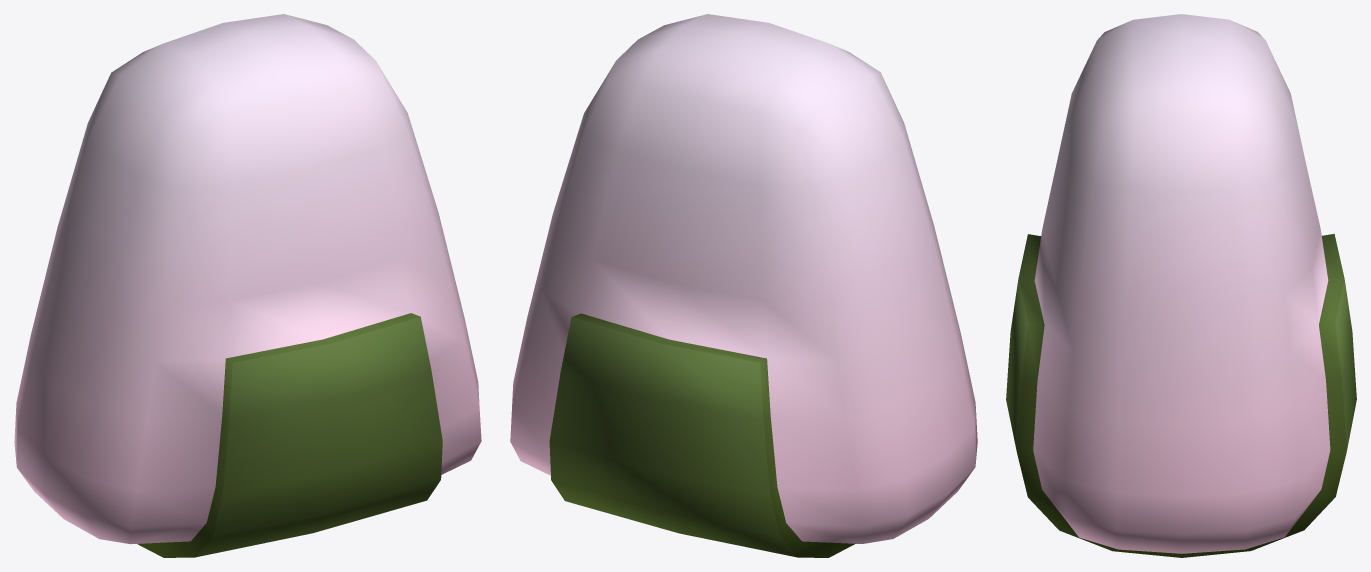
File: lpb_food_riceball.fbx
The picture shows the model from 3 angles, left to right: view 1: azimuth 30°, elevation 25°; view 2: azimuth 150°, elevation 25°; view 3: azimuth 270°, elevation 25°; orthographic projection. The views are drawn at different scales.
Parts seen in each view (by area): view 1: riceBalls; view 2: riceBalls; view 3: riceBalls.
Part boxes in pixels (left/top/right/bottom): riceBalls: left=14, top=14, right=481, bottom=557; riceBalls: left=510, top=14, right=977, bottom=557; riceBalls: left=1006, top=14, right=1356, bottom=557.
Bounding box in the file's own units: 36.84 × 41.6 × 28.13.
